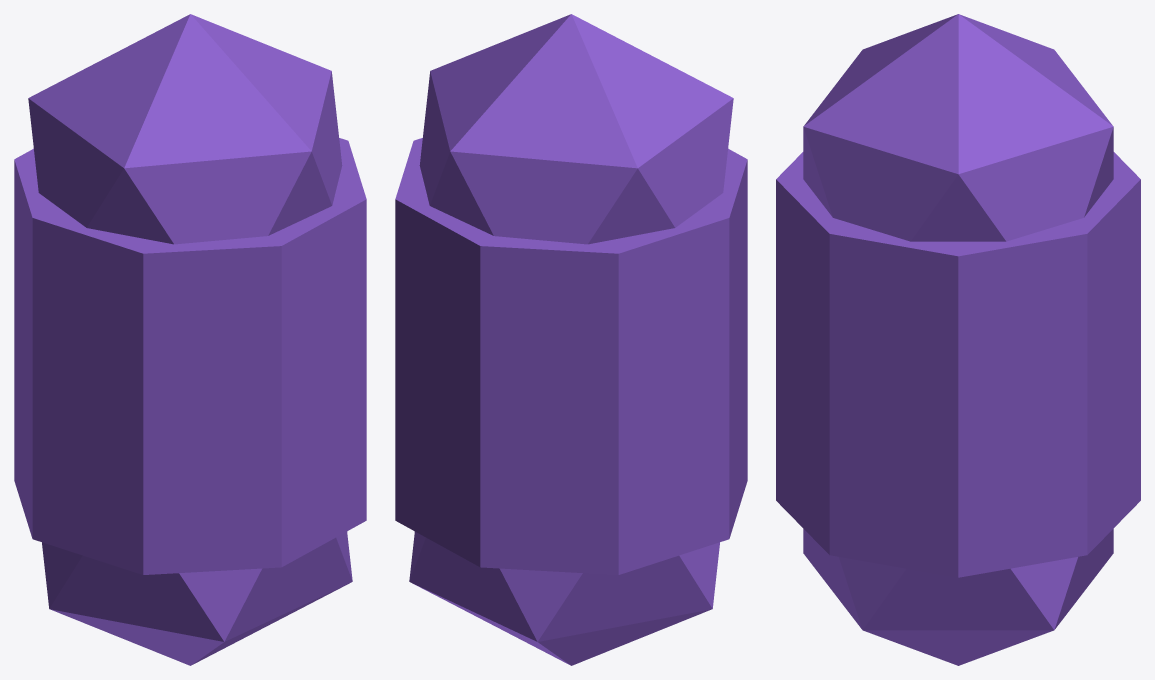
Rendered from capsule_purple.glb.
The picture shows the model from 3 angles, left to right: view 1: azimuth 30°, elevation 25°; view 2: azimuth 150°, elevation 25°; view 3: azimuth 270°, elevation 25°; orthographic projection.
Parts seen in each view (by area): view 1: capsule_purple; view 2: capsule_purple; view 3: capsule_purple.
Part boxes in pixels (x1,y1,x2,y2): capsule_purple: (14,14,366,665); capsule_purple: (395,14,747,665); capsule_purple: (776,14,1140,665).
Bounding box in the file's own units: 0.072 × 0.142 × 0.072.
